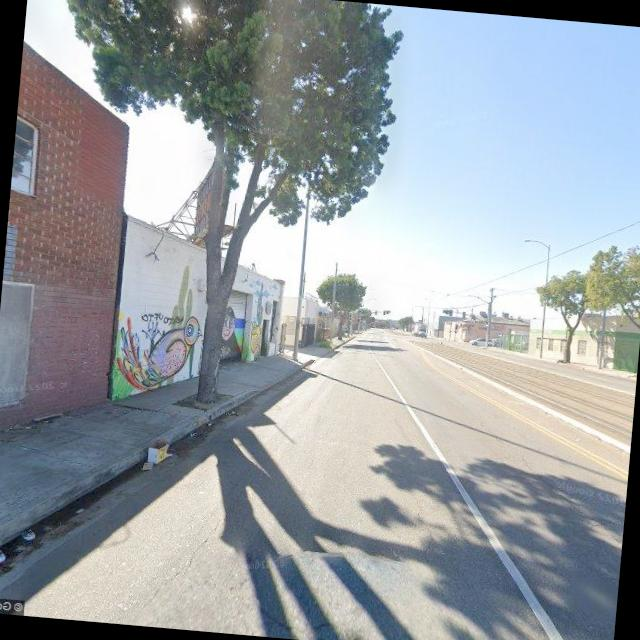pothole: (154, 510, 228, 600)
